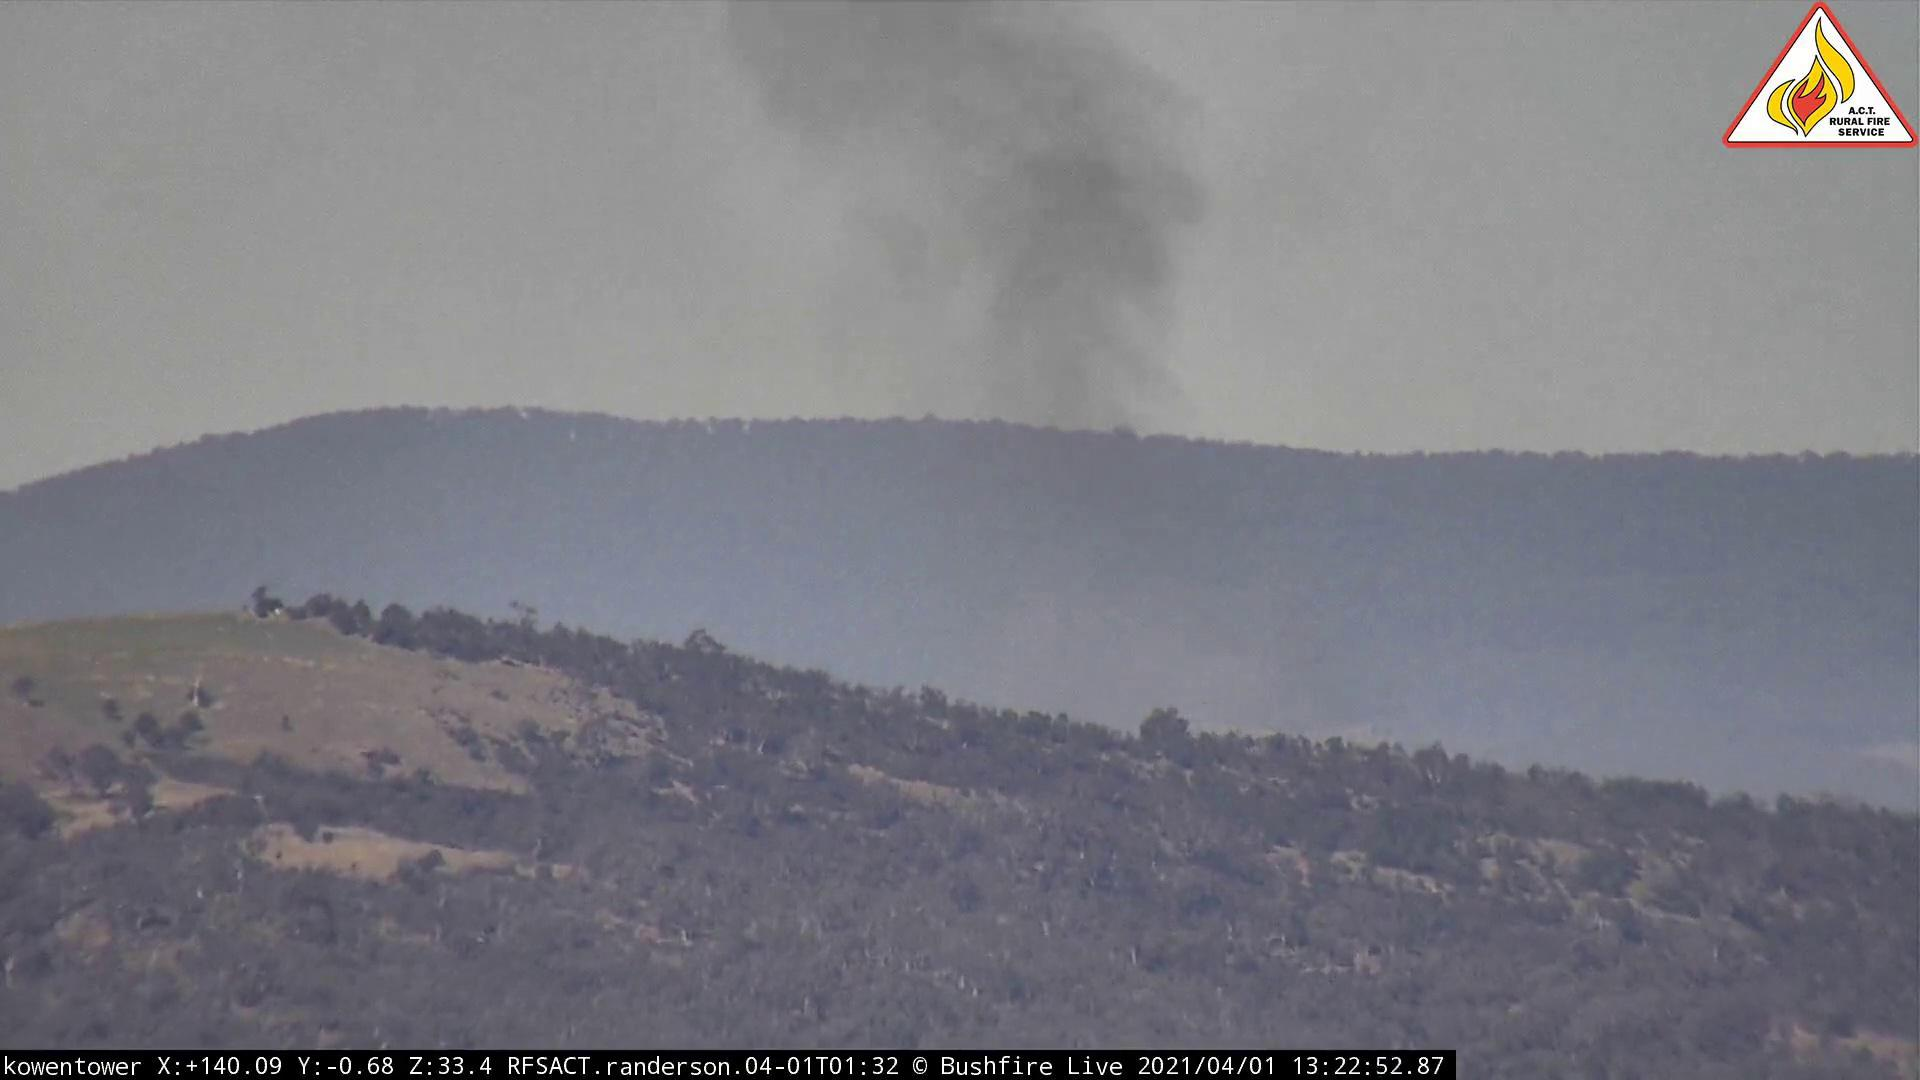Smoke: (694, 3, 1329, 754)
